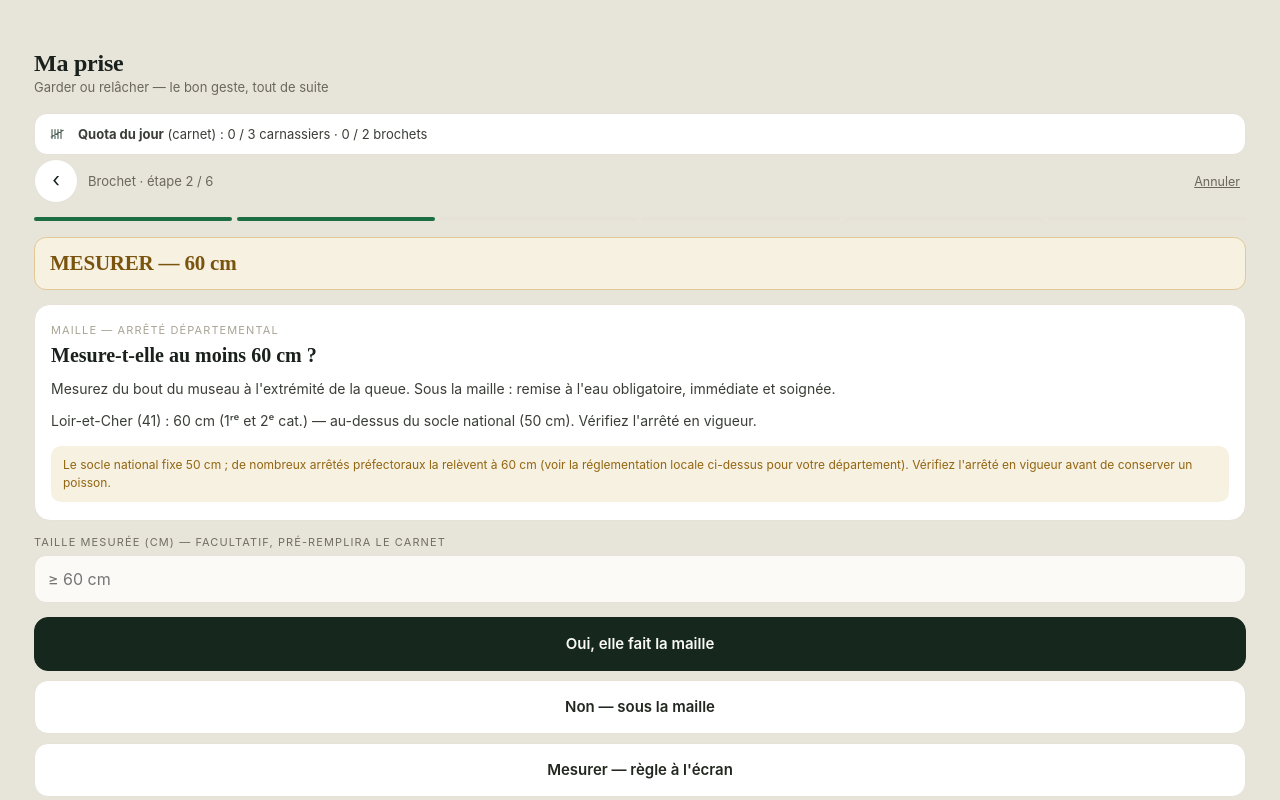
Test: Prise — la taille saisie change le verdict à l'écran › effacer la taille ramène la question, sans verdict inventé
Type "45" into the field with placeholder "≥ 60 cm" at (640, 579), box [34, 555, 1246, 603]
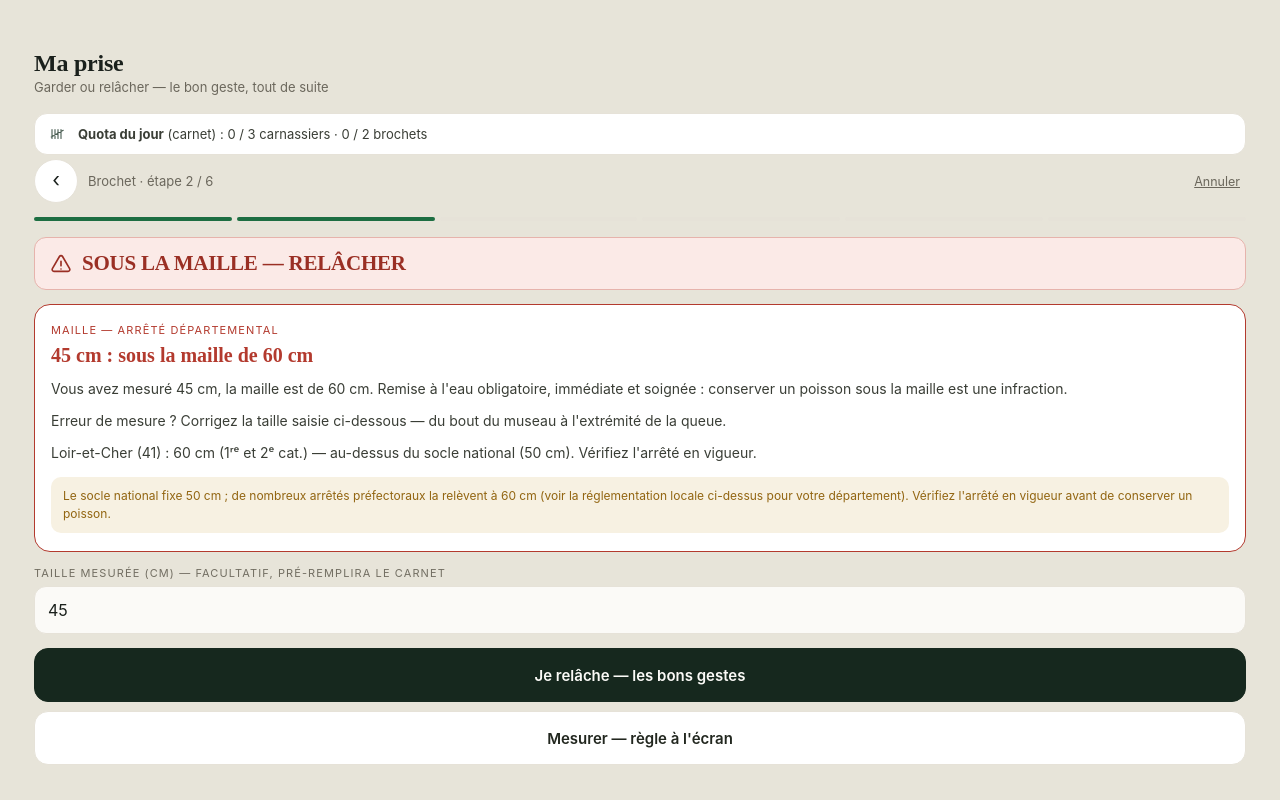
expect the text "SOUS LA MAILLE — RELÂCHER" is shown: met, box [82, 251, 406, 275]
Clear the field with placeholder "≥ 60 cm" at (640, 610), box [34, 586, 1246, 634]
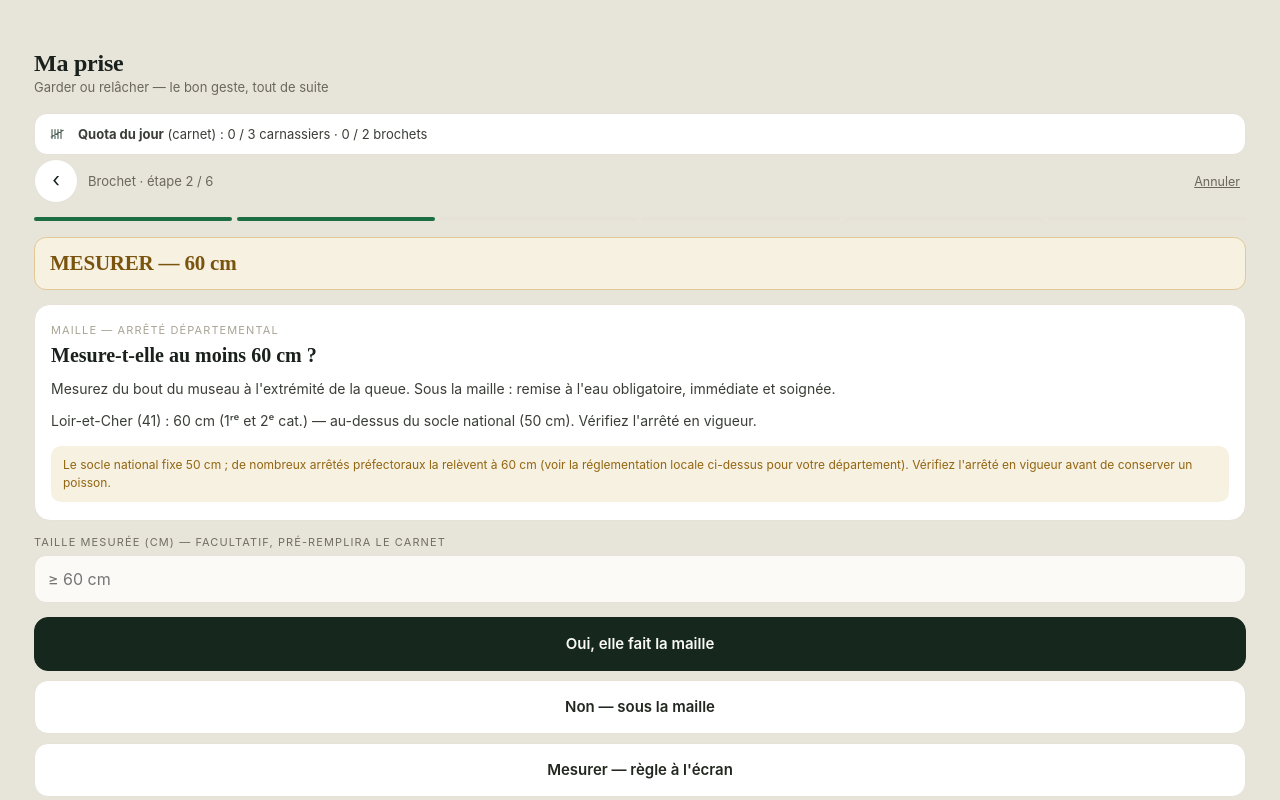
expect the text "Mesure-t-elle au moins 60 cm ?" is shown: met, box [51, 344, 317, 366]
expect the button "Oui, elle fait la maille" is shown: met, box [34, 617, 1246, 671]
